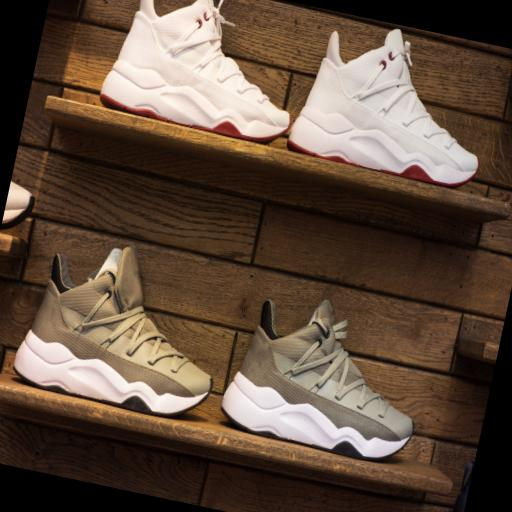shoe: (14, 246, 212, 416), (222, 301, 413, 460), (288, 30, 478, 187), (101, 0, 290, 144), (1, 182, 34, 229), (449, 463, 473, 511)
